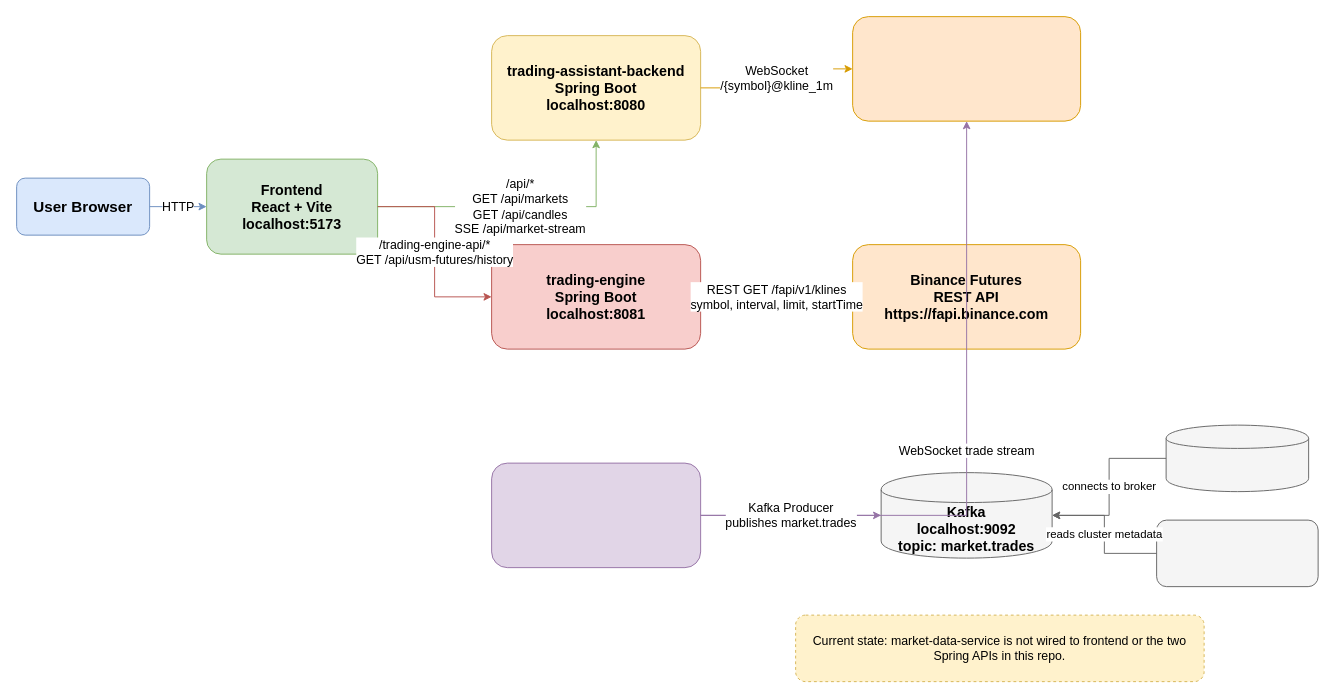
Image size: 1335x698. Some labels were removed from this diagram. The shapes that lost their labels are listed below. From the top down, each one's centre as x and y in pixels, then its label:
At (966,68): "Binance Futures WebSocket API wss://fstream.binance.com/ws".
At (1237,458): "Zookeeper localhost:2181".
At (596,515): "market-data-service Spring WebFlux Kafka Producer".
At (1237,553): "Kafka UI localhost:8080".
